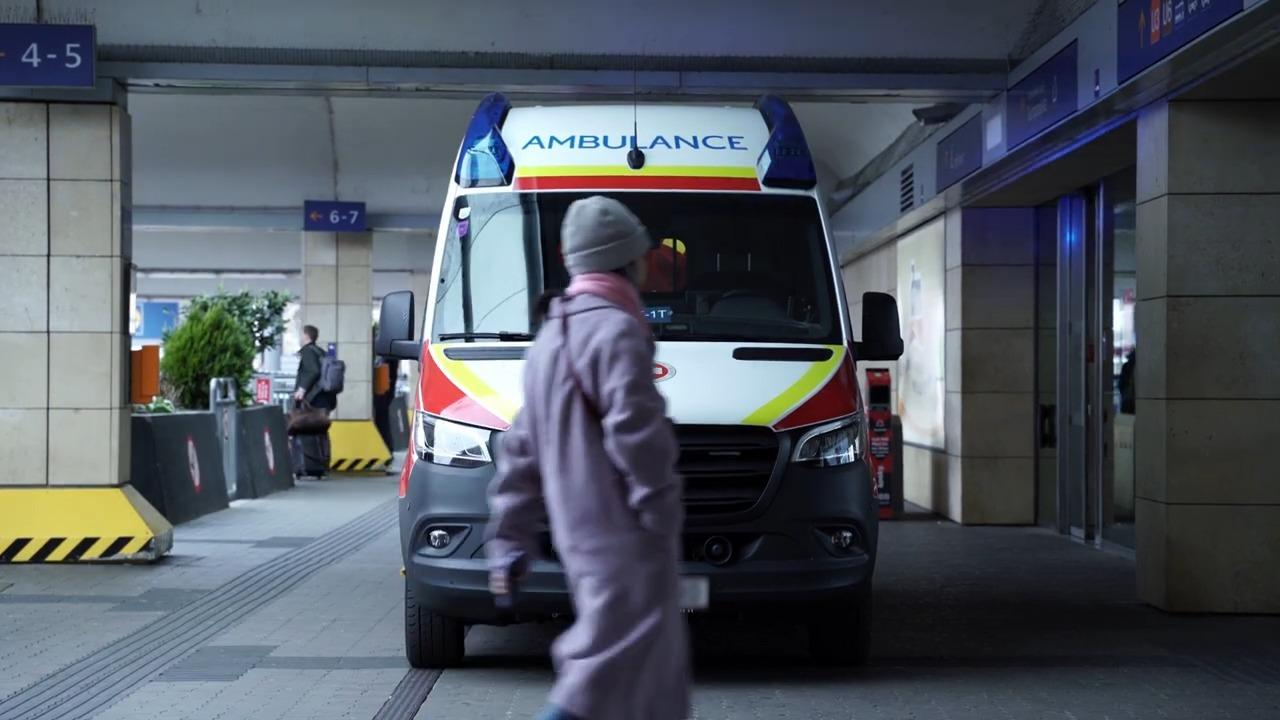car: (377, 88, 903, 669)
